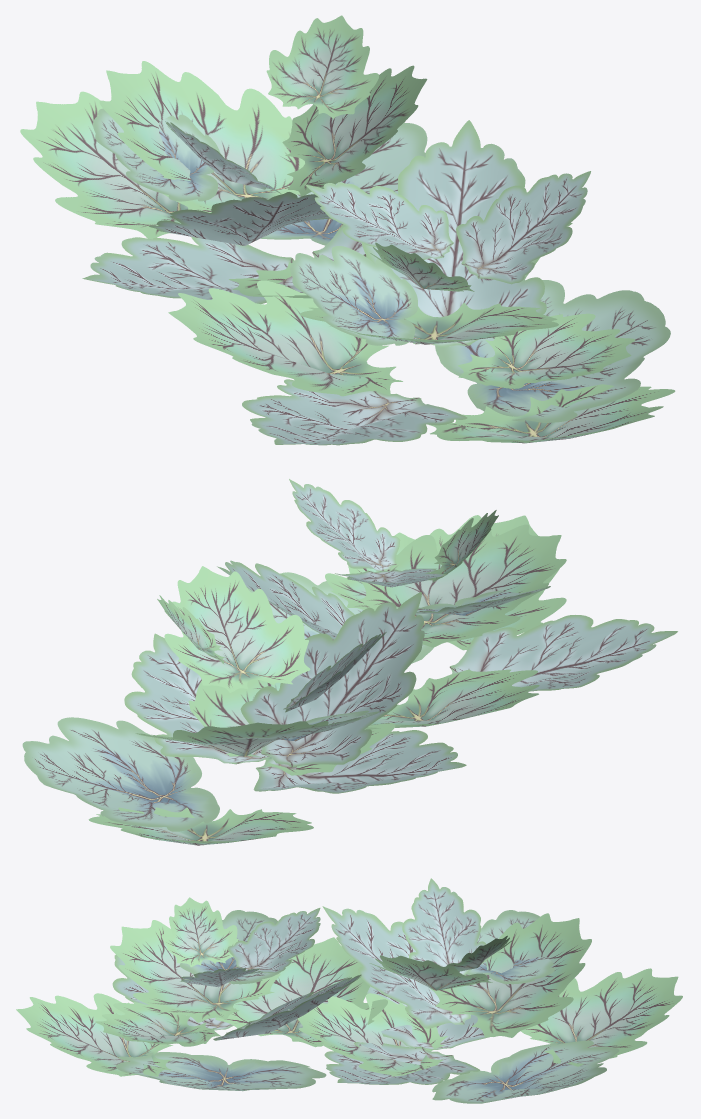
Rendered from bush_3_grand.fbx.
The picture shows the model from 3 angles, top to bottom: view 1: azimuth 30°, elevation 25°; view 2: azimuth 150°, elevation 25°; view 3: azimuth 270°, elevation 25°; orthographic projection. The views are drawn at different scales.
Visible parts, largest first — view 1: feuillage_3_grand; view 2: feuillage_3_grand; view 3: feuillage_3_grand.
Part boxes in pixels (x1,y1,x2,y2): feuillage_3_grand: [20, 15, 675, 445]; feuillage_3_grand: [22, 479, 677, 845]; feuillage_3_grand: [16, 878, 682, 1103].
Bounding box in the file's own units: 156 × 70.27 × 278.
